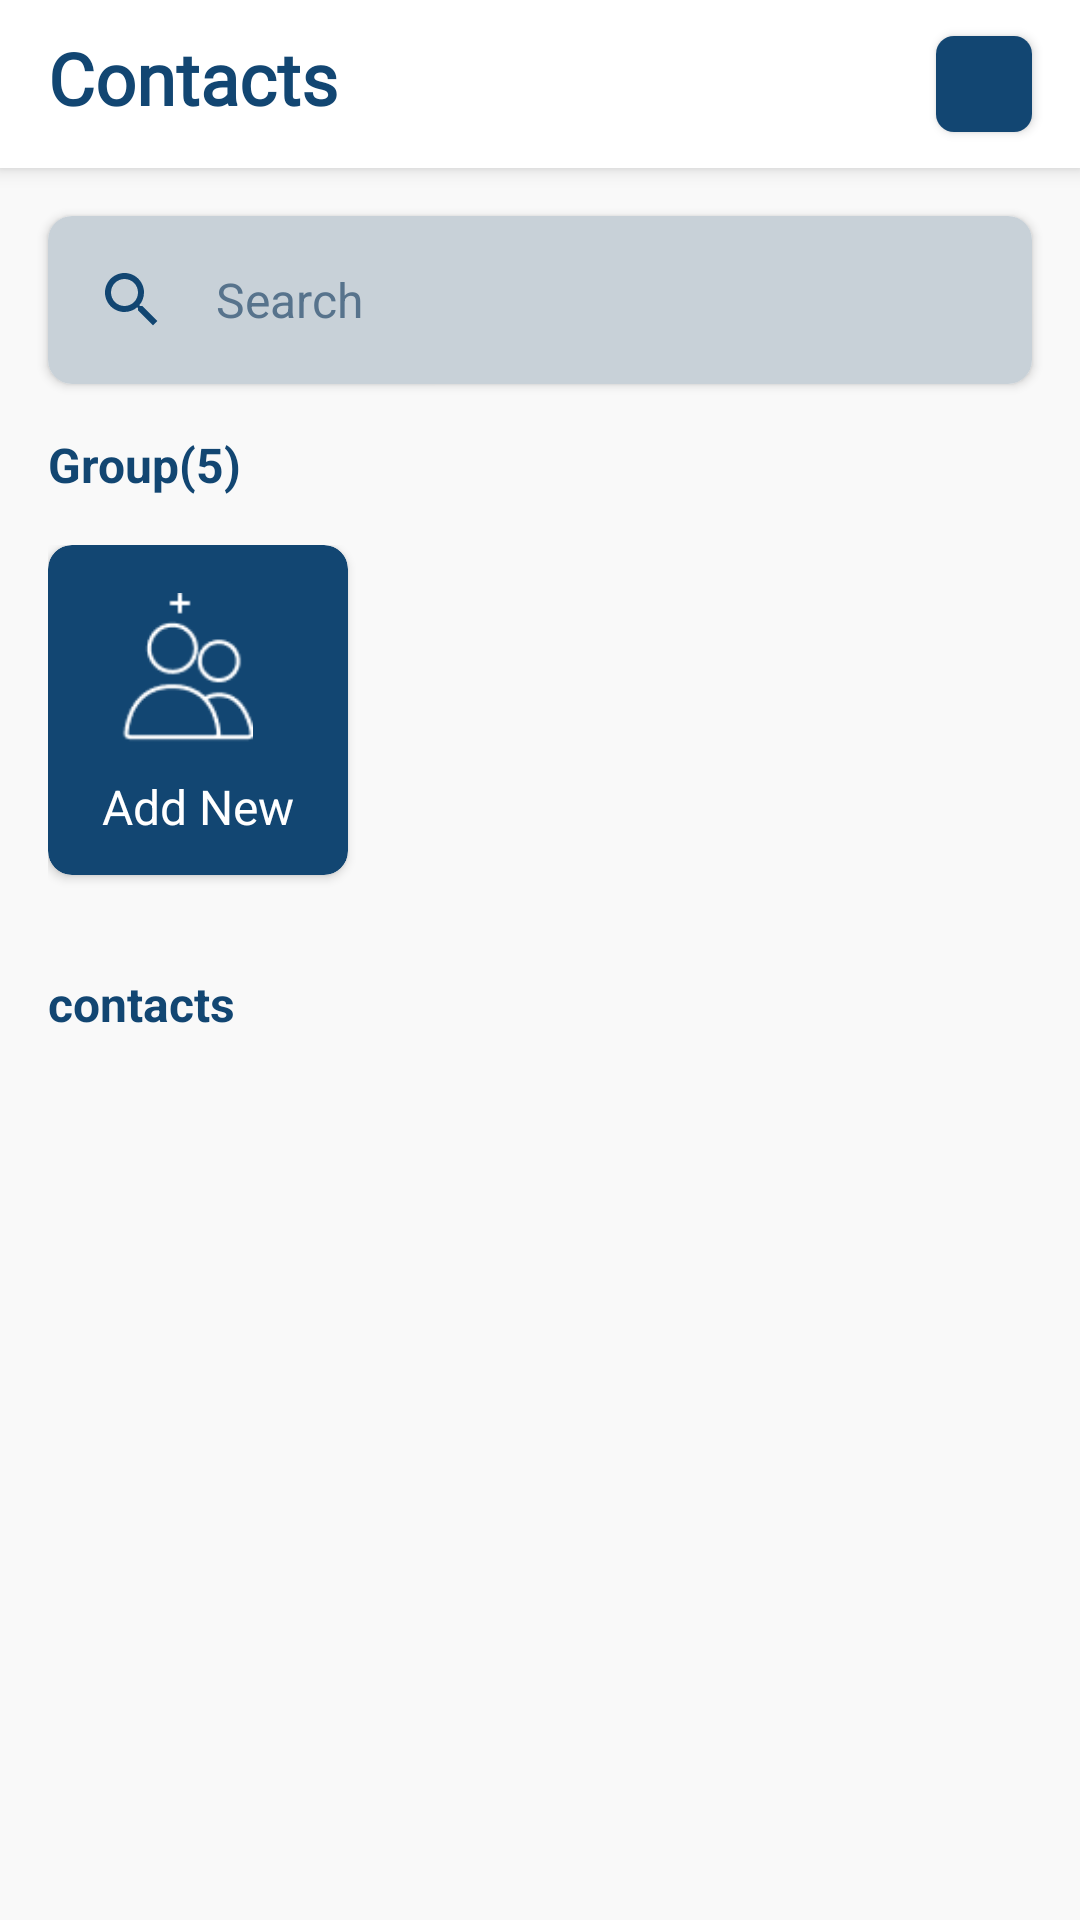

Icon bounding boxes for this 1080px×1920px phone screenshot, format (x1, y1, x2, y2):
add group: (123, 593, 253, 740)
